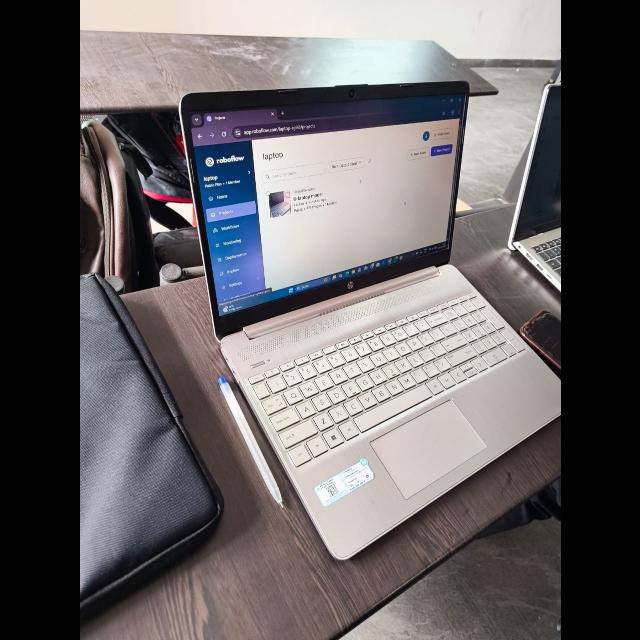laptop: (168, 79, 560, 566)
